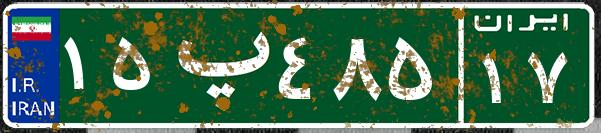1: (57, 26, 110, 107), (475, 38, 525, 113)
4: (273, 28, 330, 110)
5: (385, 28, 445, 110), (110, 28, 158, 105)
7: (525, 38, 570, 115)
8: (330, 28, 385, 110)
پ: (158, 15, 273, 115)
